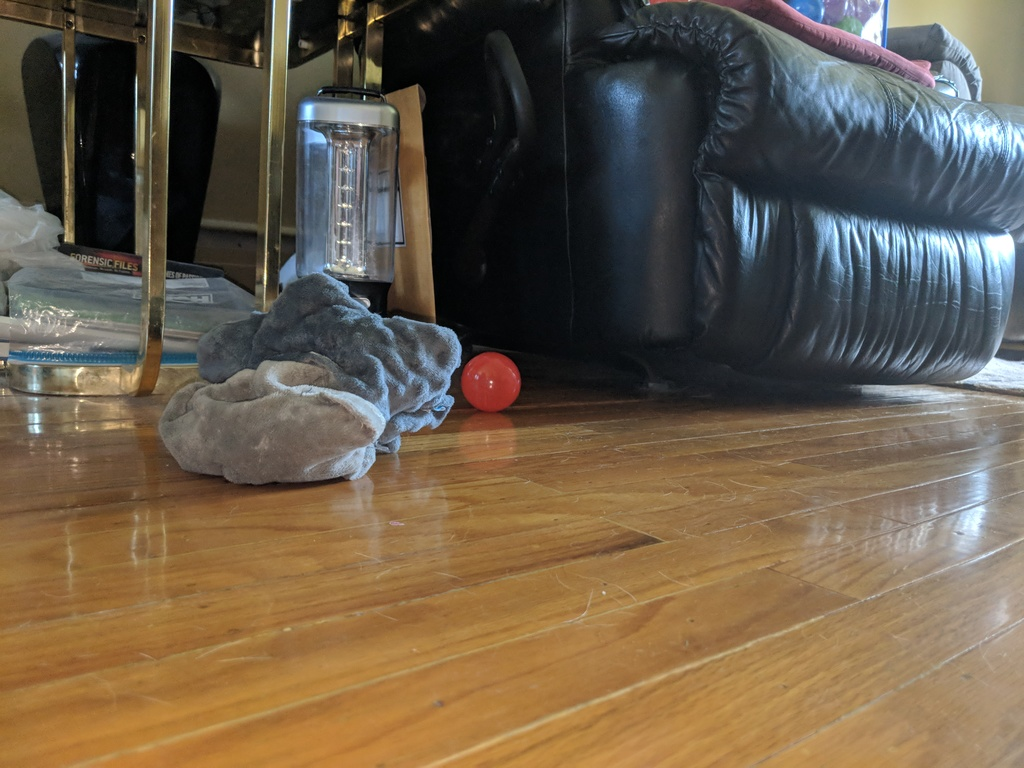ball: (458, 349, 522, 415)
